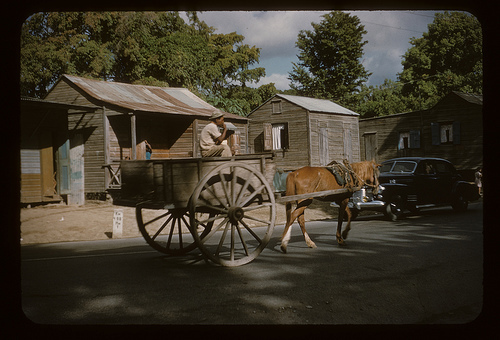horse: (276, 160, 383, 255)
